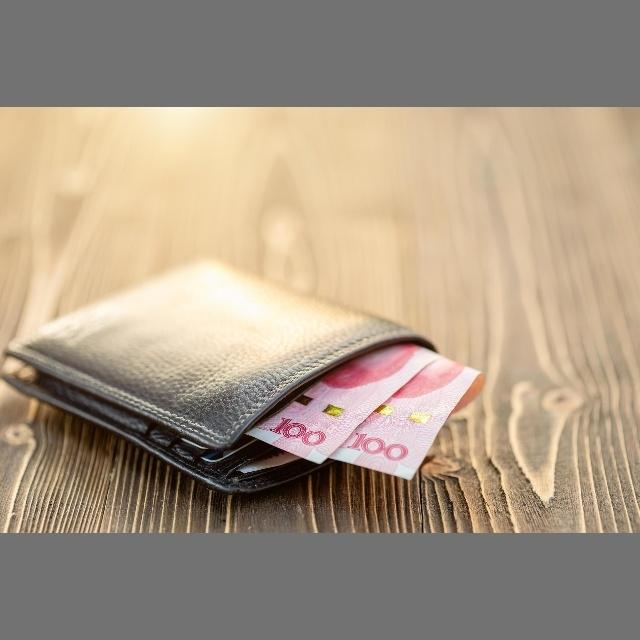Wallet: (4, 219, 494, 515)
